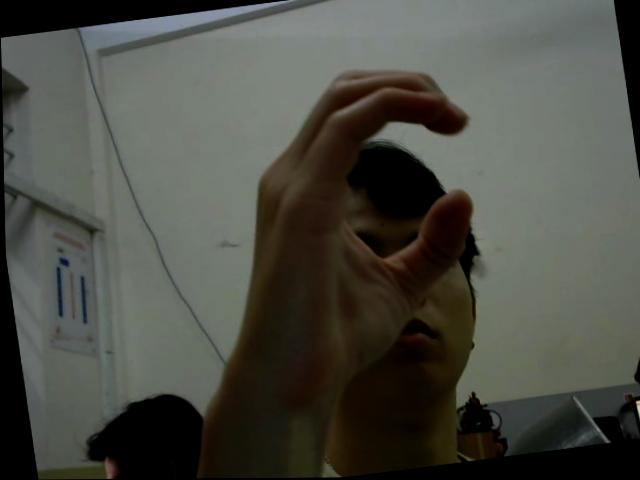C: (208, 53, 504, 396)
